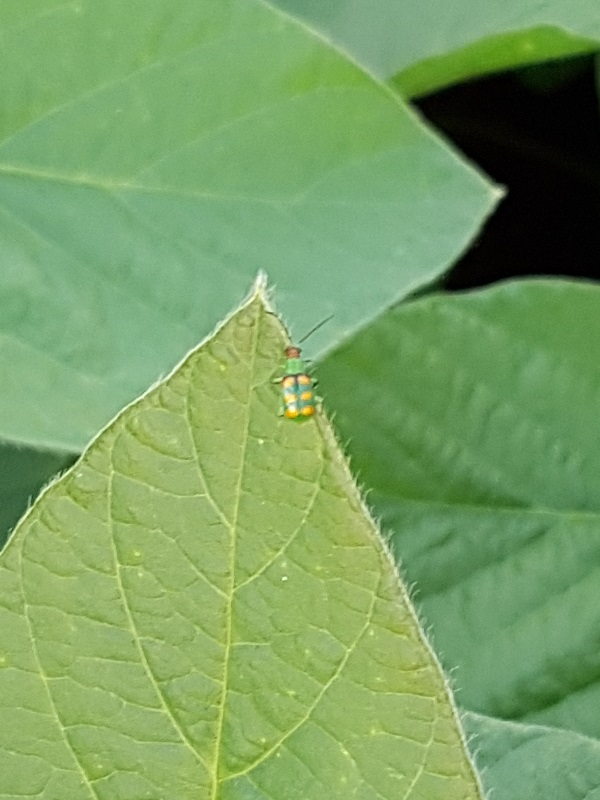Diabrotica_speciosa: (245, 305, 350, 429)
